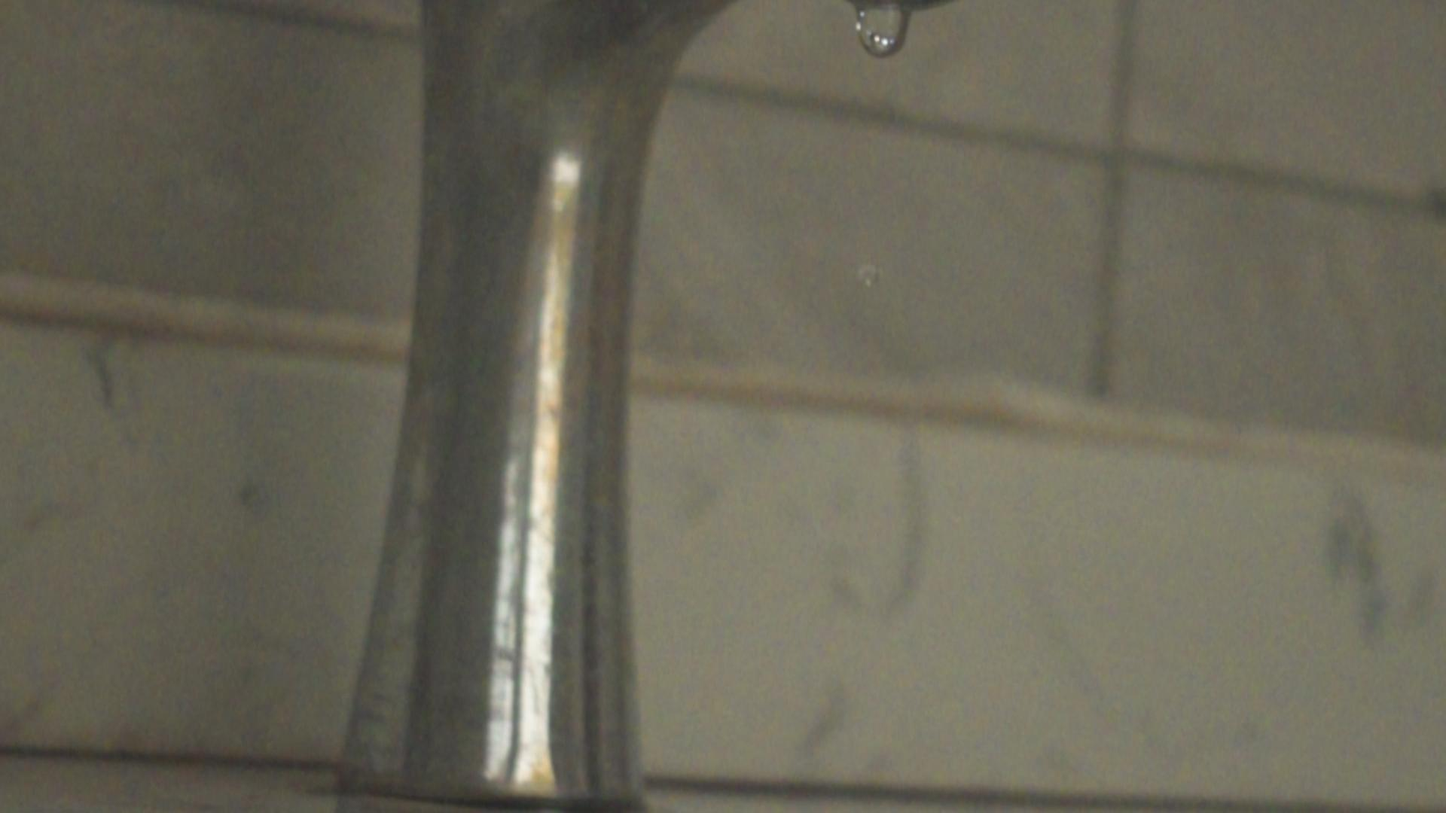water drop: (853, 0, 910, 58)
